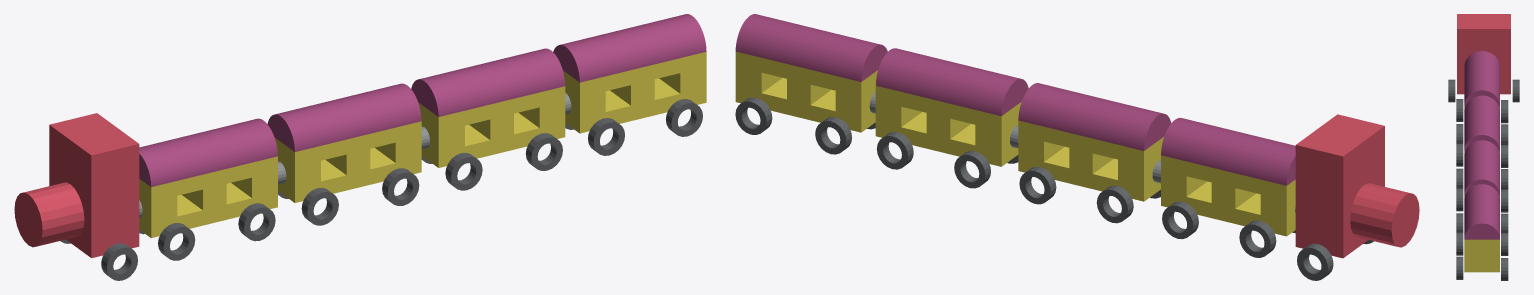
Rendered from Project-150.glb.
The picture shows the model from 3 angles, left to right: view 1: azimuth 30°, elevation 25°; view 2: azimuth 150°, elevation 25°; view 3: azimuth 270°, elevation 25°; orthographic projection. The views are drawn at different scales.
Parts seen in each view (by area): view 1: Mesh_Mesh_head_geo.001_lambert2SG.001; view 2: Mesh_Mesh_head_geo.001_lambert2SG.001; view 3: Mesh_Mesh_head_geo.001_lambert2SG.001.
Boxes of the visible parts, <box> form: Mesh_Mesh_head_geo.001_lambert2SG.001: <box>14,14,706,280</box>; Mesh_Mesh_head_geo.001_lambert2SG.001: <box>735,14,1419,280</box>; Mesh_Mesh_head_geo.001_lambert2SG.001: <box>1448,14,1519,280</box>.
Size of the model in its own units: 272 by 49.31 by 40.
